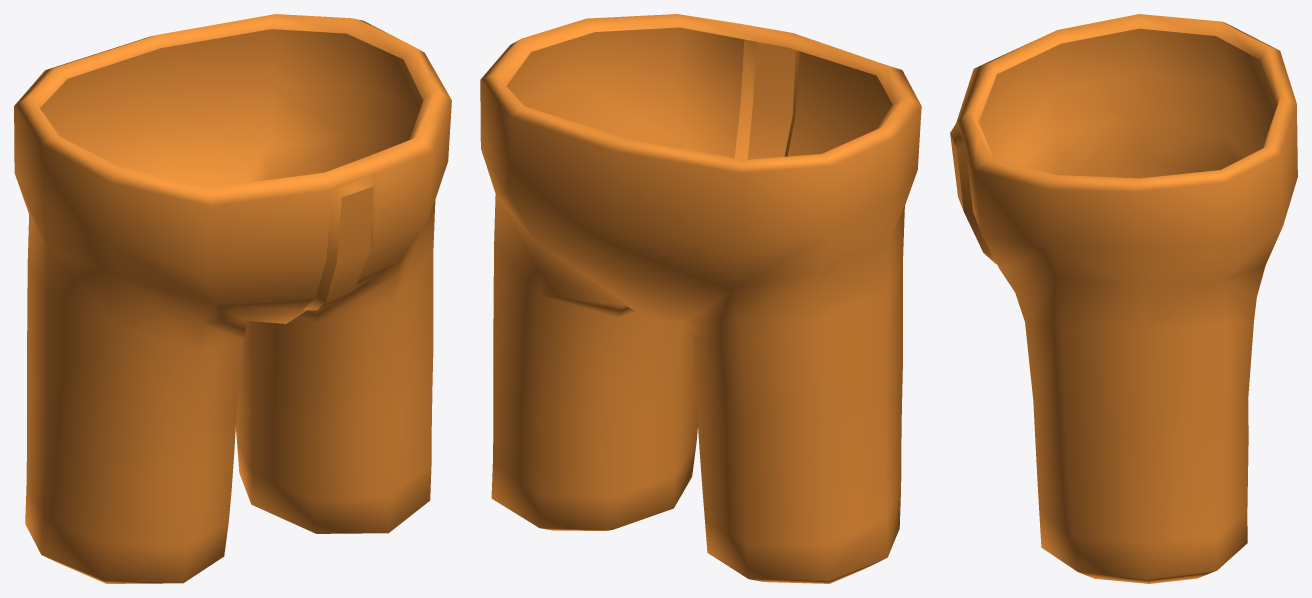
File: Bottom_24.fbx
3 renders of one model, left to right at view 1: azimuth 30°, elevation 25°; view 2: azimuth 150°, elevation 25°; view 3: azimuth 270°, elevation 25°, orthographic. The views are drawn at different scales.
Visible parts, largest first — view 1: Bottom_24; view 2: Bottom_24; view 3: Bottom_24.
Boxes of the visible parts, bbox=[...] form: Bottom_24: bbox=[14, 14, 451, 583]; Bottom_24: bbox=[480, 14, 921, 583]; Bottom_24: bbox=[950, 14, 1297, 583].
Bounding box in the file's own units: 37.99 × 42.06 × 31.97.
